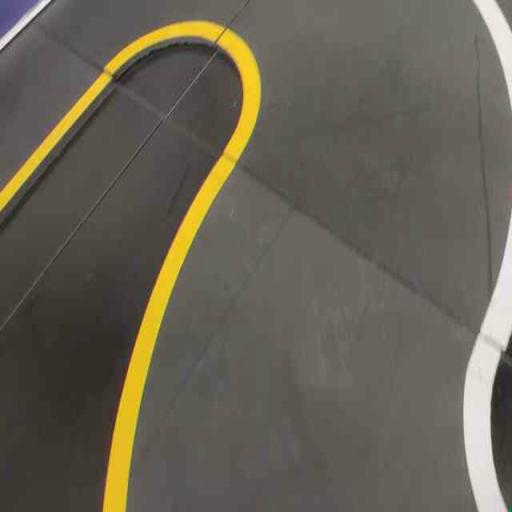right: (99, 150, 511, 511)
